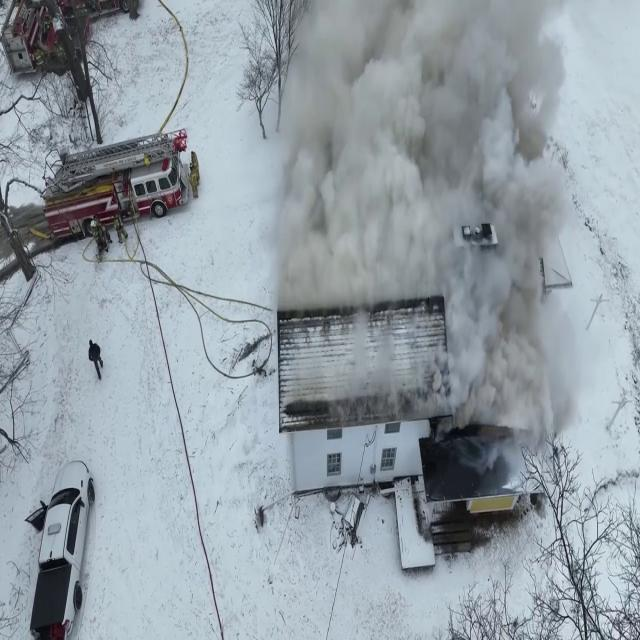Smoke: (260, 0, 600, 450)
